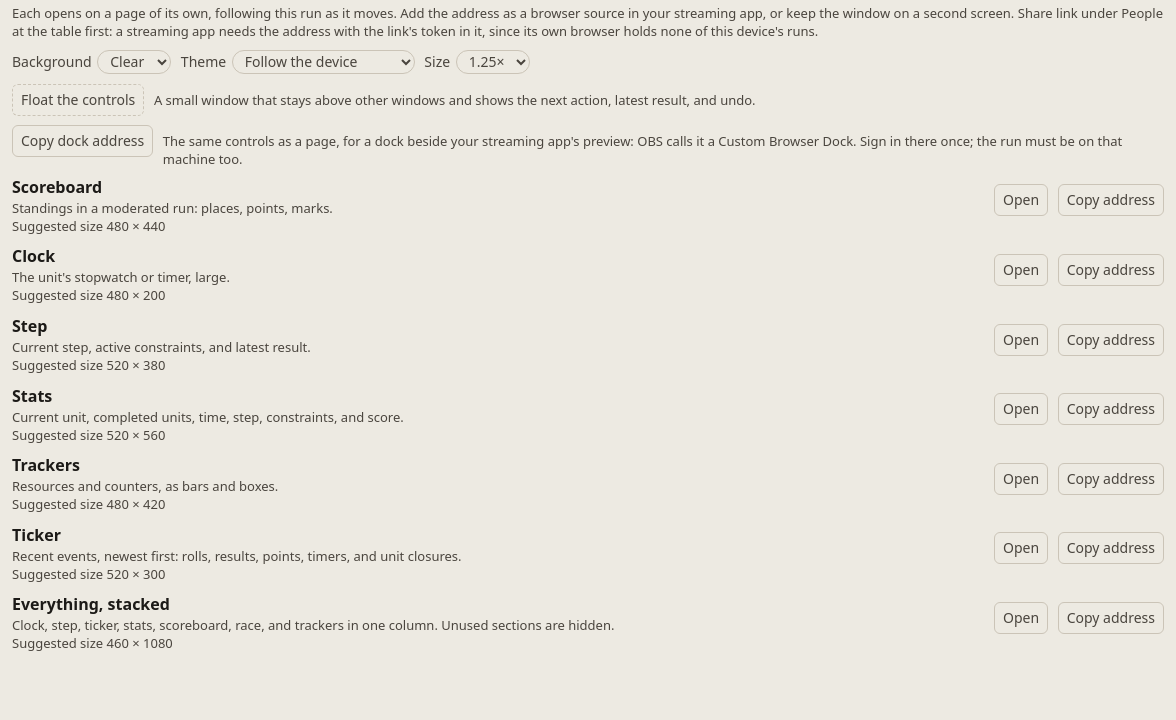
it: a failed stream address copy › clears a persistent failure only when a later retry succeeds
Click the 1st button "Copy address" at (1111, 200), box [1058,184,1164,216]
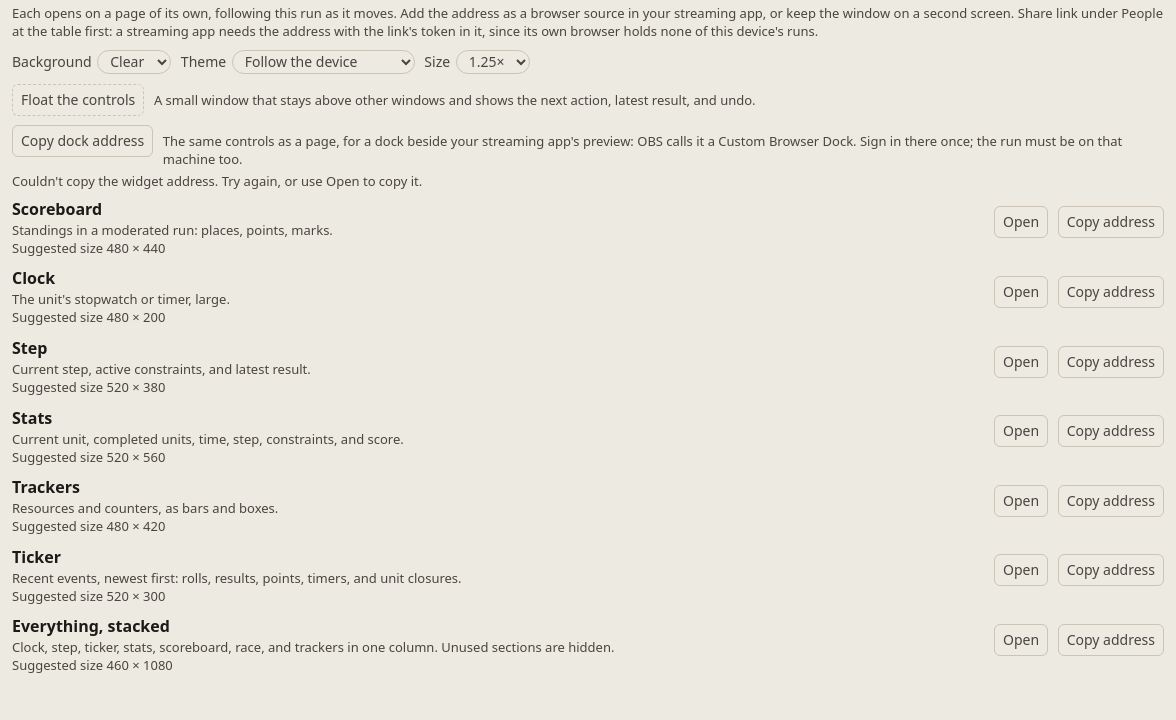
Expected: the message reads "Couldn't copy the widget address. Try again, or use Open to copy it.", [12,172,422,190]
Click the 1st button "Copy address" at (1111, 222), box [1058,206,1164,238]
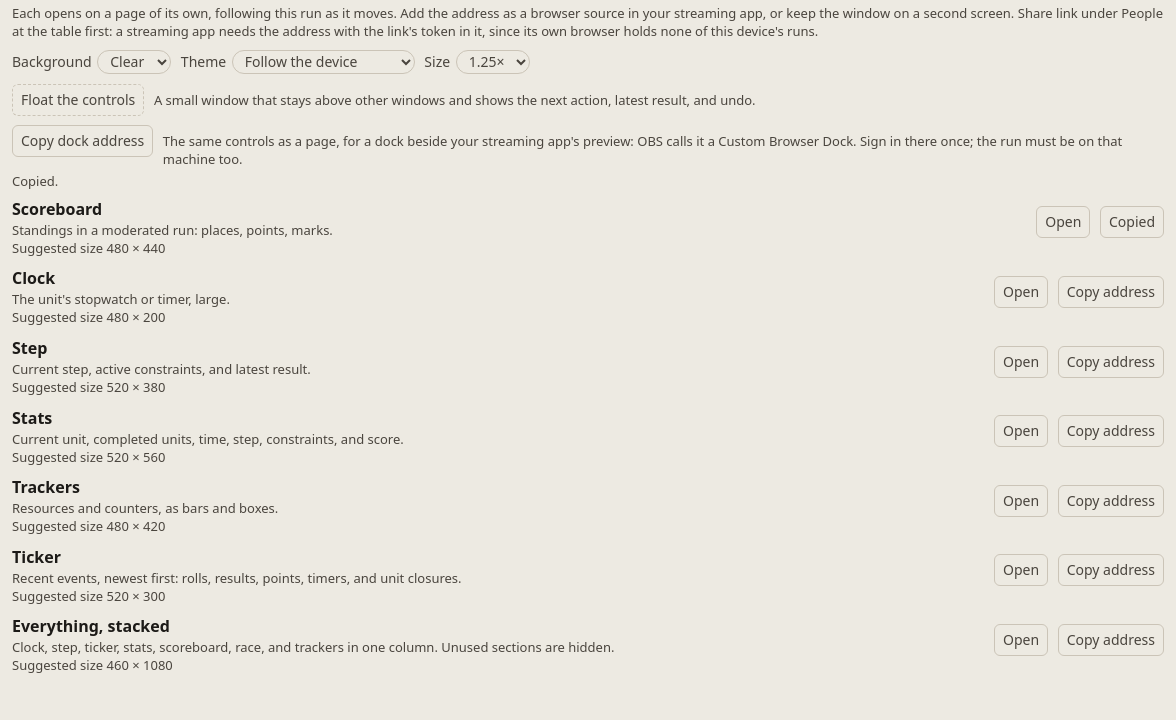
Expected: the button "Copied" is shown, [1100,206,1164,238]
Expected: the message reads "Copied.", [12,172,58,190]
